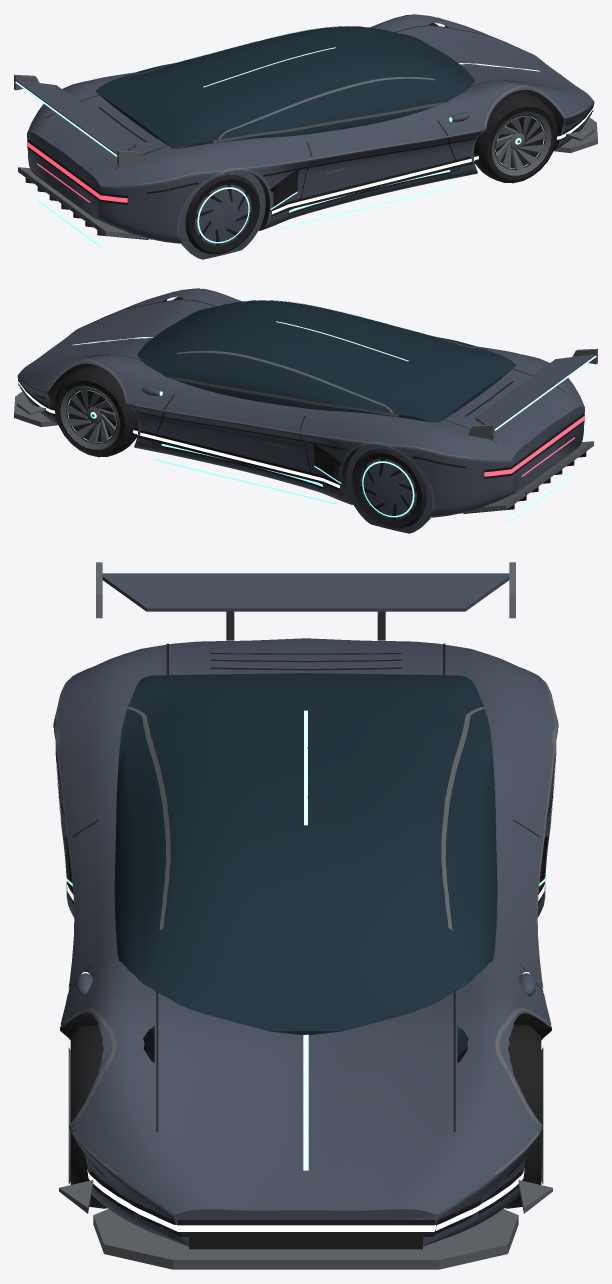
File: car180-coupe.glb
3 renders of one model, top to bottom at view 1: azimuth 30°, elevation 25°; view 2: azimuth 150°, elevation 25°; view 3: azimuth 270°, elevation 25°, orthographic. The views are drawn at different scales.
Parts seen in each view (by area): view 1: f162-body, f162-glass, f162-trim, f162-tire, f162-wheel-fr-tire, f162-wheel-rr-body, f162-wheel-rr-tire, f162-wheel-fr-trim, f162-accent, f162-head, f162-tail, f162-wheel-rr-accent; view 2: f162-body, f162-glass, f162-trim, f162-tire, f162-wheel-fl-tire, f162-wheel-rl-body, f162-wheel-rl-tire, f162-wheel-fl-trim, f162-accent, f162-head, f162-tail, f162-wheel-rl-accent; view 3: f162-body, f162-glass, f162-trim, f162-tire, f162-wheel-fl-tire, f162-wheel-fr-tire, f162-head, f162-accent.
Part boxes in pixels (left/top/right/bottom): f162-body: left=16, top=14, right=594, bottom=243; f162-glass: left=95, top=26, right=474, bottom=148; f162-trim: left=14, top=14, right=597, bottom=241; f162-tire: left=25, top=25, right=593, bottom=239; f162-wheel-fr-tire: left=473, top=91, right=557, bottom=183; f162-wheel-rr-body: left=180, top=170, right=265, bottom=259; f162-wheel-rr-tire: left=185, top=174, right=259, bottom=254; f162-wheel-fr-trim: left=491, top=111, right=551, bottom=175; f162-accent: left=15, top=47, right=539, bottom=248; f162-head: left=271, top=107, right=593, bottom=214; f162-tail: left=27, top=140, right=127, bottom=202; f162-wheel-rr-accent: left=197, top=187, right=249, bottom=243; f162-body: left=17, top=288, right=595, bottom=517; f162-glass: left=137, top=300, right=516, bottom=422; f162-trim: left=14, top=288, right=597, bottom=515; f162-tire: left=18, top=299, right=586, bottom=513; f162-wheel-fl-tire: left=54, top=365, right=138, bottom=457; f162-wheel-rl-body: left=346, top=444, right=431, bottom=533; f162-wheel-rl-tire: left=352, top=448, right=426, bottom=528; f162-wheel-fl-trim: left=60, top=385, right=120, bottom=449; f162-accent: left=72, top=321, right=596, bottom=522; f162-head: left=18, top=381, right=339, bottom=488; f162-tail: left=484, top=414, right=584, bottom=476; f162-wheel-rl-accent: left=362, top=461, right=414, bottom=517; f162-body: left=54, top=573, right=557, bottom=1246; f162-glass: left=114, top=673, right=497, bottom=1056; f162-trim: left=53, top=562, right=558, bottom=1269; f162-tire: left=59, top=611, right=552, bottom=1249; f162-wheel-fl-tire: left=504, top=1024, right=541, bottom=1208; f162-wheel-fr-tire: left=70, top=1024, right=107, bottom=1208; f162-head: left=67, top=885, right=544, bottom=1231; f162-accent: left=65, top=572, right=546, bottom=1170.
Bounding box in the file's own units: 4.36 × 1.04 × 1.9.
